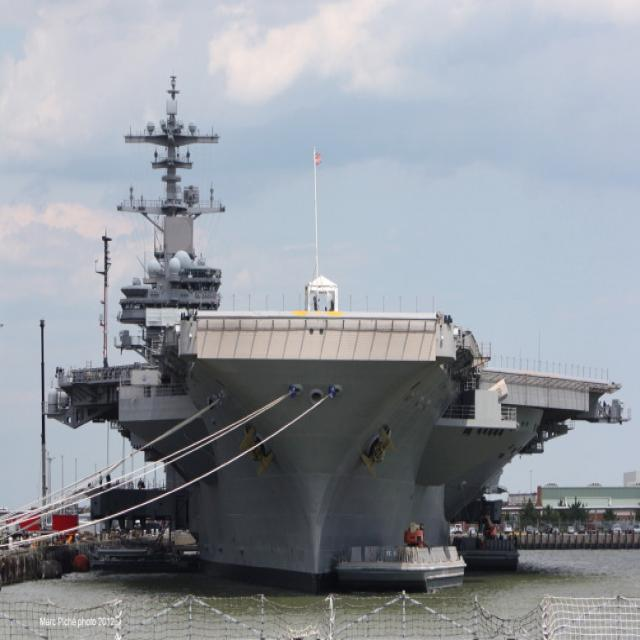Portanaves: (47, 59, 632, 584)
